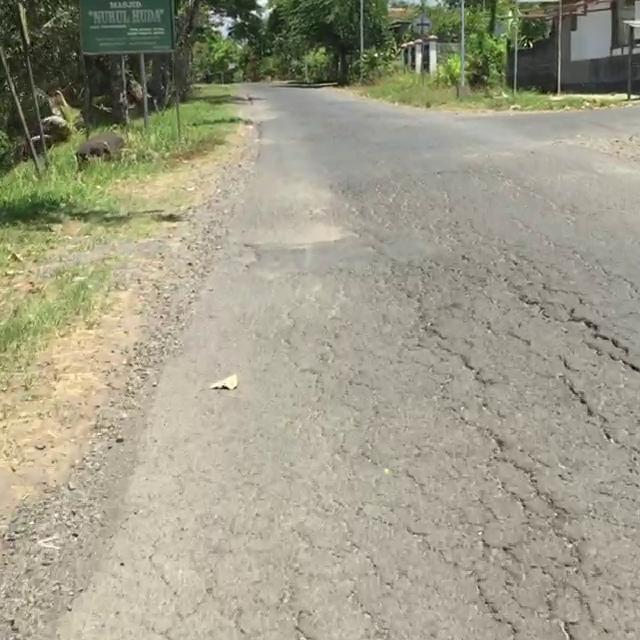retak_kulit_buaya: (382, 259, 640, 640)
